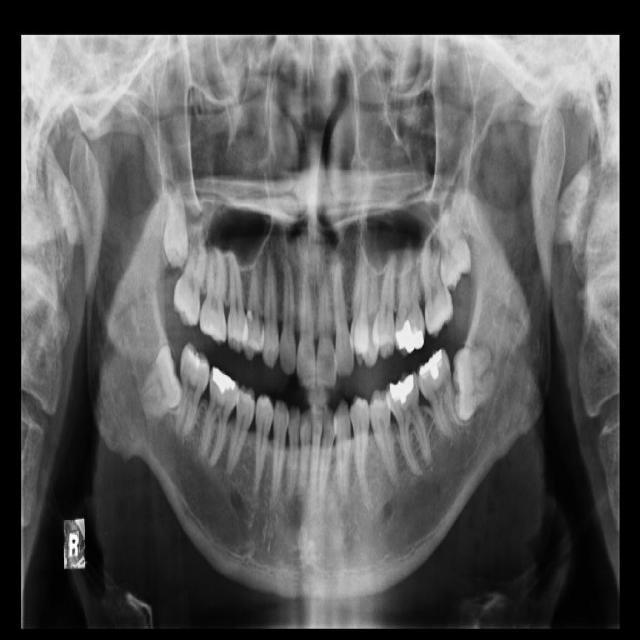Filling: (392, 318, 424, 354), (417, 349, 447, 381), (390, 375, 415, 407), (212, 365, 237, 396), (244, 308, 255, 324)
impacted tooth: (453, 347, 500, 418), (137, 346, 179, 424), (439, 209, 470, 285), (162, 178, 186, 266)
